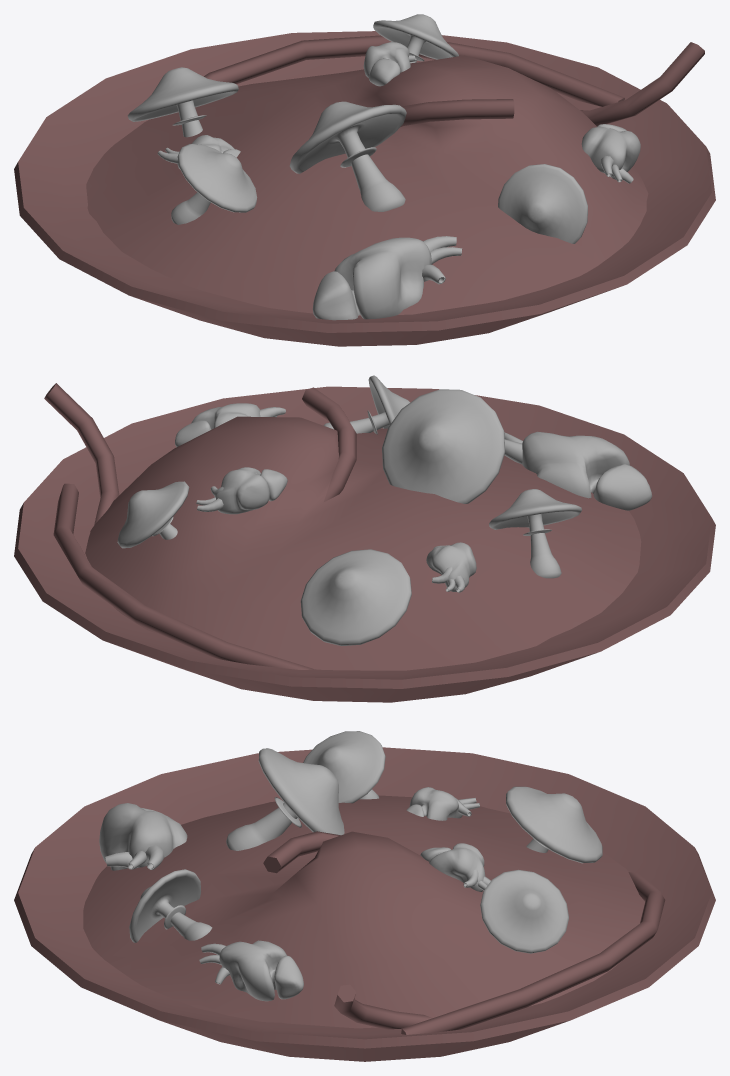
File: Food_Spaghetti.fbx
The picture shows the model from 3 angles, top to bottom: view 1: azimuth 30°, elevation 25°; view 2: azimuth 150°, elevation 25°; view 3: azimuth 270°, elevation 25°; orthographic projection.
Visible parts, largest first — view 1: GameObject_LizardHeart4; view 2: GameObject_LizardHeart4; view 3: GameObject_LizardHeart4.
Boxes of the visible parts, bbox=[...] form: GameObject_LizardHeart4: bbox=[14, 14, 715, 346]; GameObject_LizardHeart4: bbox=[14, 375, 715, 702]; GameObject_LizardHeart4: bbox=[14, 731, 715, 1061].
Bounding box in the file's own units: 0.5285 × 0.1446 × 0.5088.
